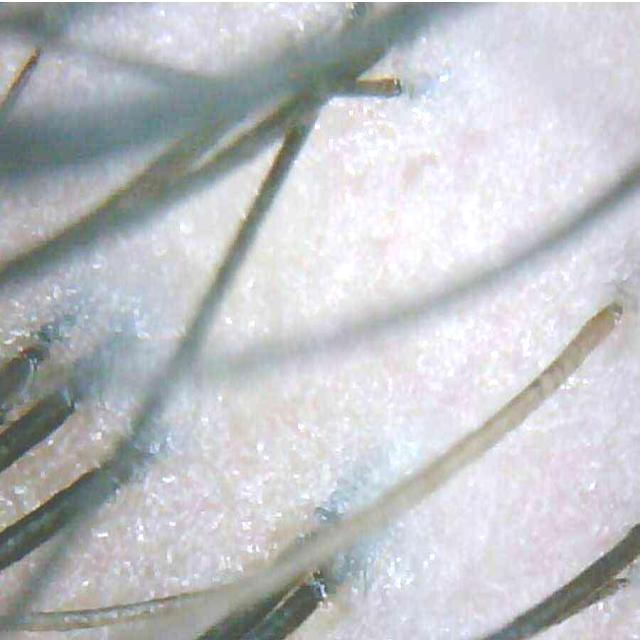o: (0, 315, 122, 458), (85, 457, 189, 604)
